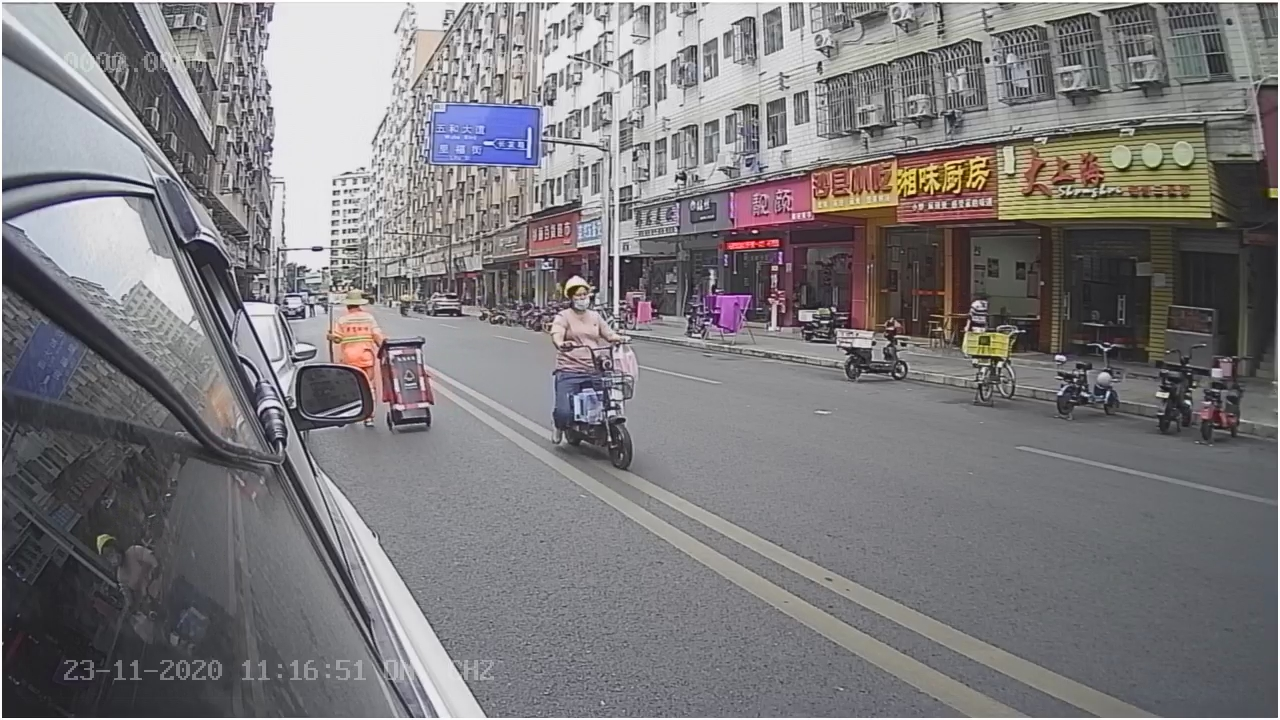person: (546, 273, 631, 342)
